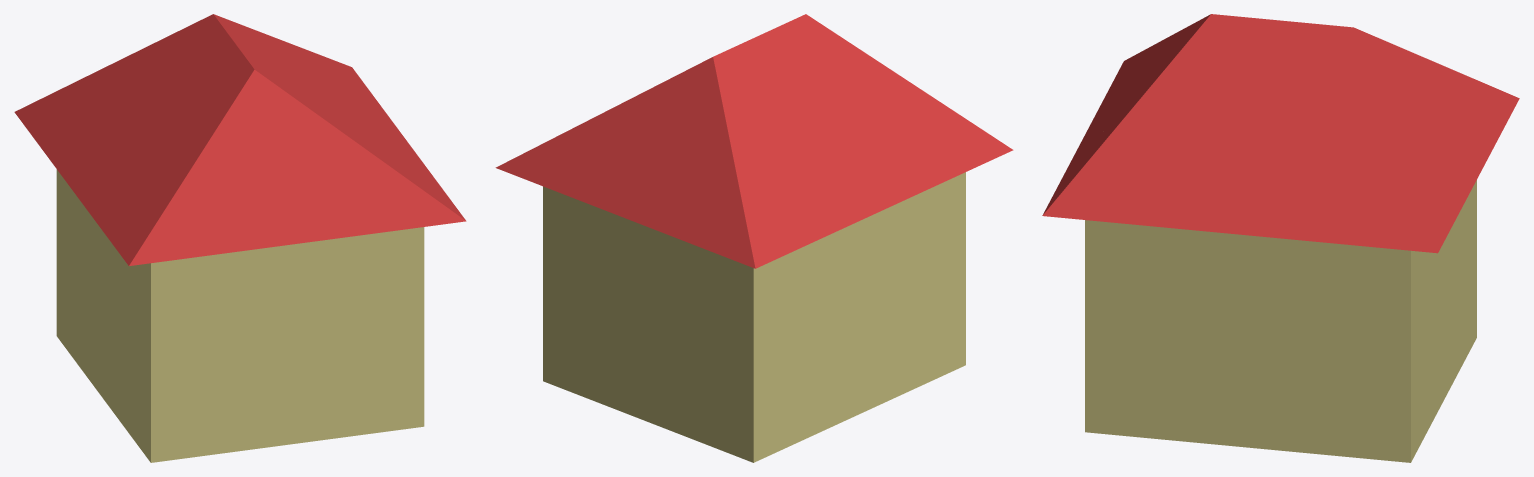
3 views of the same model, side by side, from view 1: azimuth 30°, elevation 25°; view 2: azimuth 150°, elevation 25°; view 3: azimuth 270°, elevation 25° (orthographic). The views are drawn at different scales.
Visible parts, largest first — view 1: group_5, group_3, group_4; view 2: group_5, group_3; view 3: group_5, group_3, group_4.
Part boxes in pixels (bbox=[...]): group_5: bbox=[56, 169, 424, 462]; group_3: bbox=[14, 14, 465, 265]; group_4: bbox=[130, 179, 465, 265]; group_5: bbox=[543, 172, 965, 462]; group_3: bbox=[495, 14, 1013, 268]; group_5: bbox=[1085, 180, 1476, 462]; group_3: bbox=[1042, 14, 1519, 253]; group_4: bbox=[1042, 62, 1323, 242].
Bounding box in the file's own units: 12.72 × 13.36 × 11.15.
